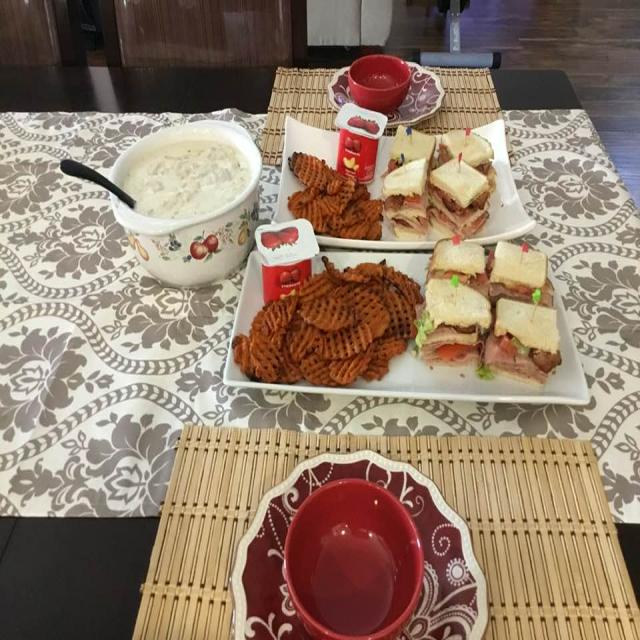Sandwich: (380, 117, 563, 400)
